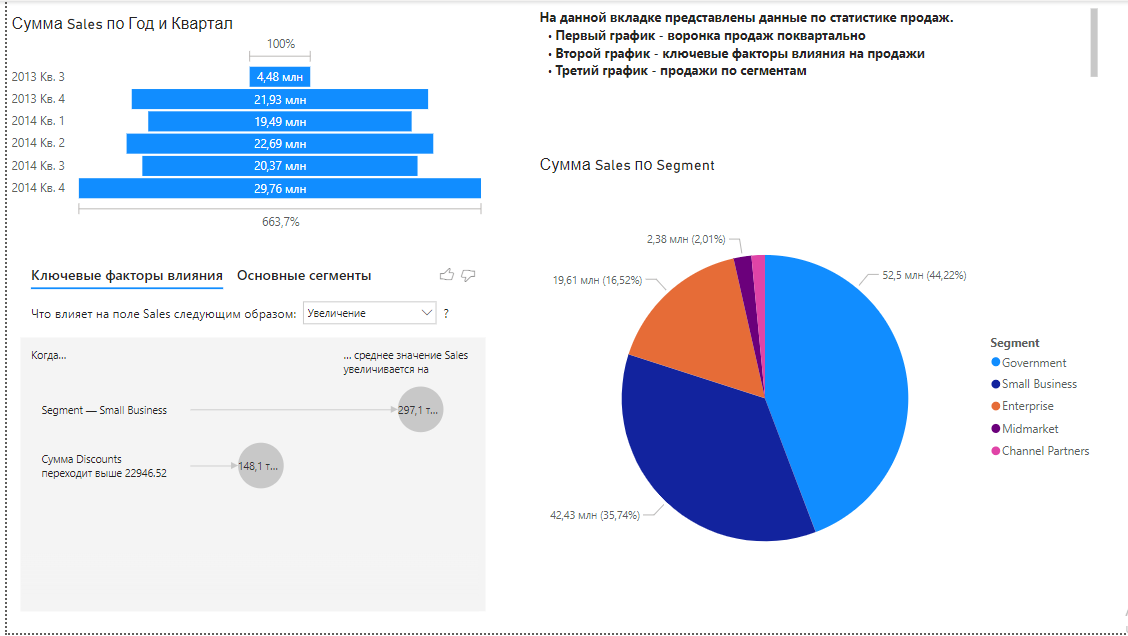

What the dashboard file says about the page in this screenshot:
{"tool":"powerbi","page":{"name":"статистика продаж","canvas":[1280,720],"ordinal":0},"visuals":[{"type":"funnel","fields":{"Category":["Sheet1.Date.Изменение.Иерархия дат.Год","Sheet1.Date.Изменение.Иерархия дат.Квартал"],"Y":["Sum(Sheet1. Sales)"]},"box":[0,14.8,550.3,250.6],"z":0},{"type":"keyDriversVisual","fields":{"Target":["Sheet1. Sales"],"ExplainBy":["Sum(Sheet1.Discounts)","Sheet1.Segment"]},"box":[10.3,288.2,540,412.4],"z":1000},{"type":"pieChart","fields":{"Y":["Sum(Sheet1. Sales)"],"Category":["Sheet1.Segment"]},"box":[601.5,175.4,645.9,535.4],"z":2000},{"type":"textbox","box":[601.5,3.4,645.9,88.9],"z":3000}]}

Visuals, with their boxes in screenshot pixels (x1, y1, x2, y2), scaled from the page's 1280x720 canvas onto the 1128x636 screenshot:
funnel - Sheet1.Date.Изменение.Иерархия дат.Год x Sheet1.Date.Изменение.Иерархия дат.Квартал: bbox(0, 13, 485, 234)
keyDriversVisual - Sheet1. Sales x Sum(Sheet1.Discounts): bbox(9, 255, 485, 619)
pieChart - Sum(Sheet1. Sales) x Sheet1.Segment: bbox(530, 155, 1099, 628)
textbox: bbox(530, 3, 1099, 82)
